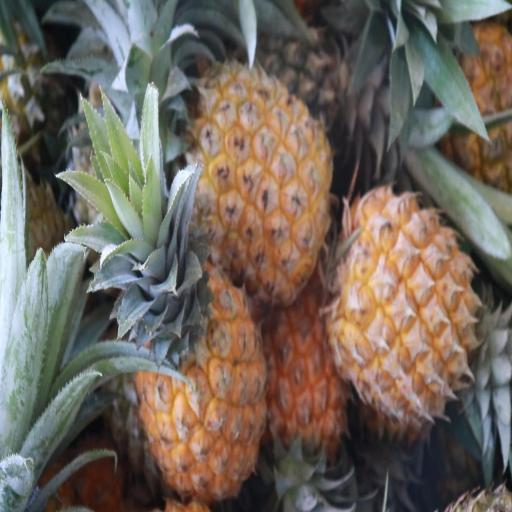Pineapple - v8 v1: (134, 224, 267, 502), (190, 55, 335, 307), (333, 184, 482, 429), (266, 294, 350, 505)
